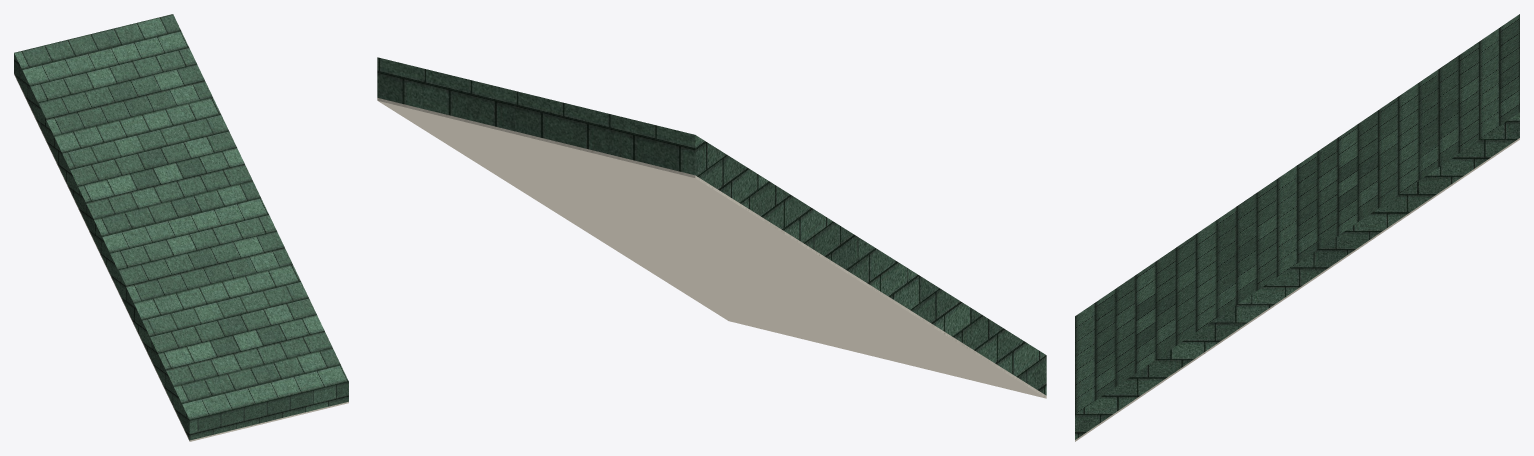
Rendered from cross_slope_end_l.glb.
The picture shows the model from 3 angles, left to right: view 1: azimuth 30°, elevation 25°; view 2: azimuth 150°, elevation 25°; view 3: azimuth 270°, elevation 25°; orthographic projection. The views are drawn at different scales.
Visible parts, largest first — view 1: cross_slope_end_l_shingle, cross_slope_end_l_plaster; view 2: cross_slope_end_l_plaster, cross_slope_end_l_shingle; view 3: cross_slope_end_l_shingle, cross_slope_end_l_plaster.
Boxes of the visible parts, <box> form: cross_slope_end_l_shingle: <box>14,14,348,440</box>; cross_slope_end_l_plaster: <box>14,73,348,441</box>; cross_slope_end_l_plaster: <box>377,98,1046,398</box>; cross_slope_end_l_shingle: <box>377,57,1046,395</box>; cross_slope_end_l_shingle: <box>1075,14,1519,439</box>; cross_slope_end_l_plaster: <box>1075,138,1519,441</box>.
Bounding box in the file's own units: 2.3 × 3.6 × 4.4.
2 materials, 2 textured.
